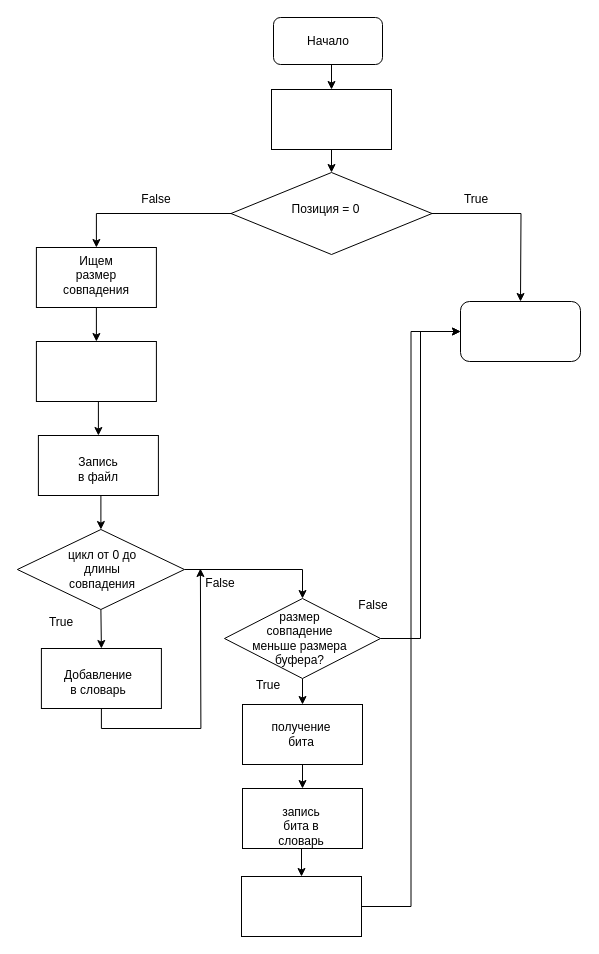
The diagram is 599 pixels wide and 954 high, and some of its shapes have lost their labels. Each missing label, with the centre of its shape:
"запись в раскодированный файл" goes at point 301,906.
"Ищем позицию совпадения" goes at point 331,119.
"Конец" goes at point 520,331.
"Копирование из словаря в буфер" goes at point 95,371.
